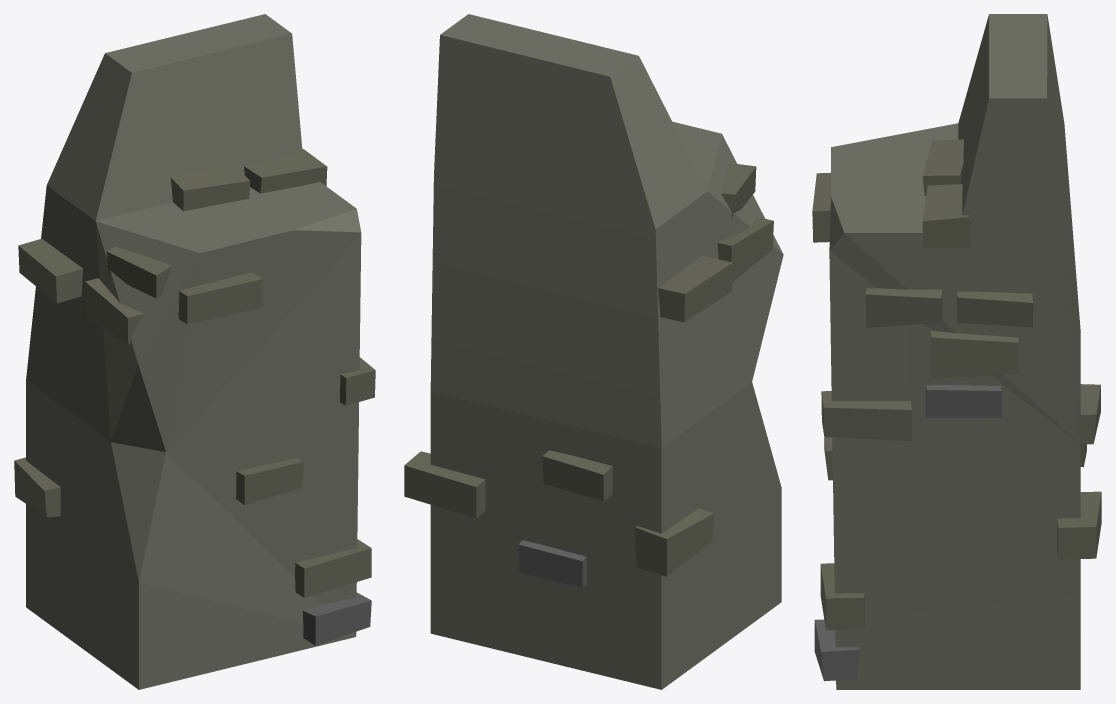
File: ea_arch_wall03_rubble_01c_pre_1_lev1.glb
The picture shows the model from 3 angles, left to right: view 1: azimuth 30°, elevation 25°; view 2: azimuth 150°, elevation 25°; view 3: azimuth 270°, elevation 25°; orthographic projection. The views are drawn at different scales.
Parts seen in each view (by area): view 1: ea_arch_wall03_rubble_01c_pre_1_lev1; view 2: ea_arch_wall03_rubble_01c_pre_1_lev1; view 3: ea_arch_wall03_rubble_01c_pre_1_lev1.
Part boxes in pixels (bbox=[...]): ea_arch_wall03_rubble_01c_pre_1_lev1: bbox=[14, 14, 375, 689]; ea_arch_wall03_rubble_01c_pre_1_lev1: bbox=[404, 14, 783, 689]; ea_arch_wall03_rubble_01c_pre_1_lev1: bbox=[812, 14, 1101, 689].
Bounding box in the file's own units: 0.9371 × 1.93 × 0.8502.
1 material, 1 textured.
